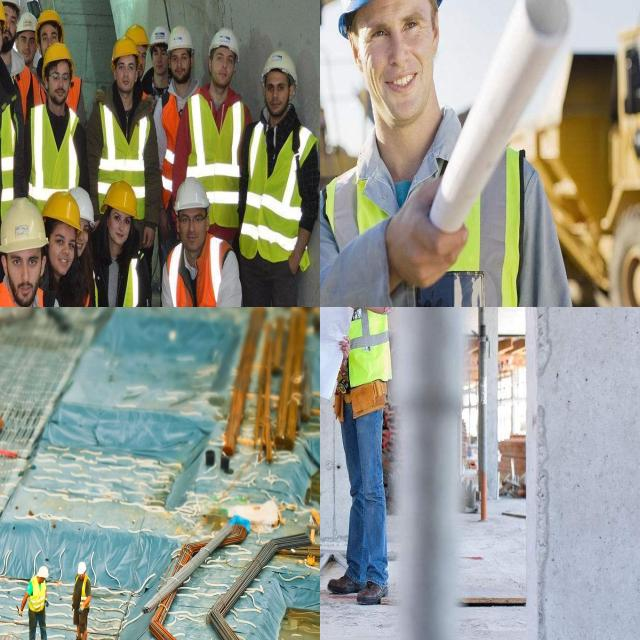No_Ear-Protection: (347, 28, 367, 76), (426, 0, 441, 60)
No_Glasses: (342, 10, 446, 49)
face_nomask: (348, 0, 447, 115), (5, 249, 37, 299), (46, 223, 76, 275), (178, 206, 207, 254), (208, 44, 238, 86), (263, 71, 290, 117), (110, 57, 135, 100), (103, 207, 127, 250), (46, 65, 68, 108), (170, 47, 194, 85), (15, 30, 38, 58), (150, 45, 169, 76), (38, 29, 61, 51)
glasses: (177, 208, 206, 230)
hand_noglove: (382, 178, 471, 294)
head_helmet: (335, 0, 448, 34), (0, 198, 48, 252), (43, 190, 84, 230), (260, 50, 299, 86), (104, 180, 139, 216), (176, 178, 210, 208), (40, 44, 75, 69), (210, 28, 240, 56), (71, 188, 97, 220), (110, 39, 140, 62), (167, 25, 194, 49), (37, 9, 62, 31), (124, 24, 147, 44), (16, 12, 38, 31), (148, 25, 170, 43), (36, 566, 52, 580), (79, 561, 88, 577), (0, 0, 18, 6)
person: (320, 0, 588, 307), (245, 44, 309, 307), (333, 307, 389, 601), (190, 28, 241, 248), (96, 35, 154, 205), (0, 198, 85, 307), (159, 191, 237, 307), (28, 46, 92, 186), (45, 182, 98, 307), (95, 182, 148, 307), (8, 0, 40, 91), (23, 564, 52, 640), (73, 557, 93, 640), (0, 0, 7, 124)
shoes: (354, 575, 393, 609), (325, 570, 364, 598)
vest: (320, 152, 556, 307), (247, 126, 310, 260), (186, 94, 240, 178), (26, 114, 80, 198), (167, 245, 228, 307), (339, 307, 389, 378), (91, 250, 152, 307), (101, 108, 146, 182), (0, 102, 33, 181), (29, 576, 46, 612)
